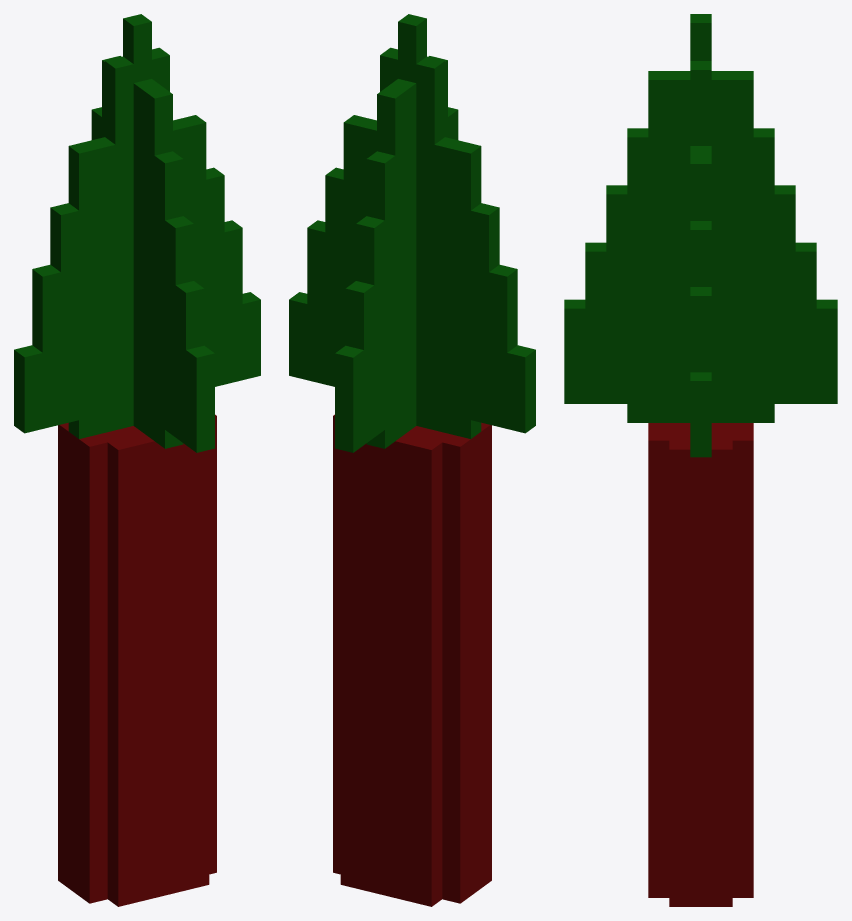
The model's file is Tree.obj.
3 views of the same model, side by side, from view 1: azimuth 30°, elevation 25°; view 2: azimuth 150°, elevation 25°; view 3: azimuth 270°, elevation 25° (orthographic).
Bounding box in the file's own units: 13 × 45 × 13.
1 material, 1 textured.
